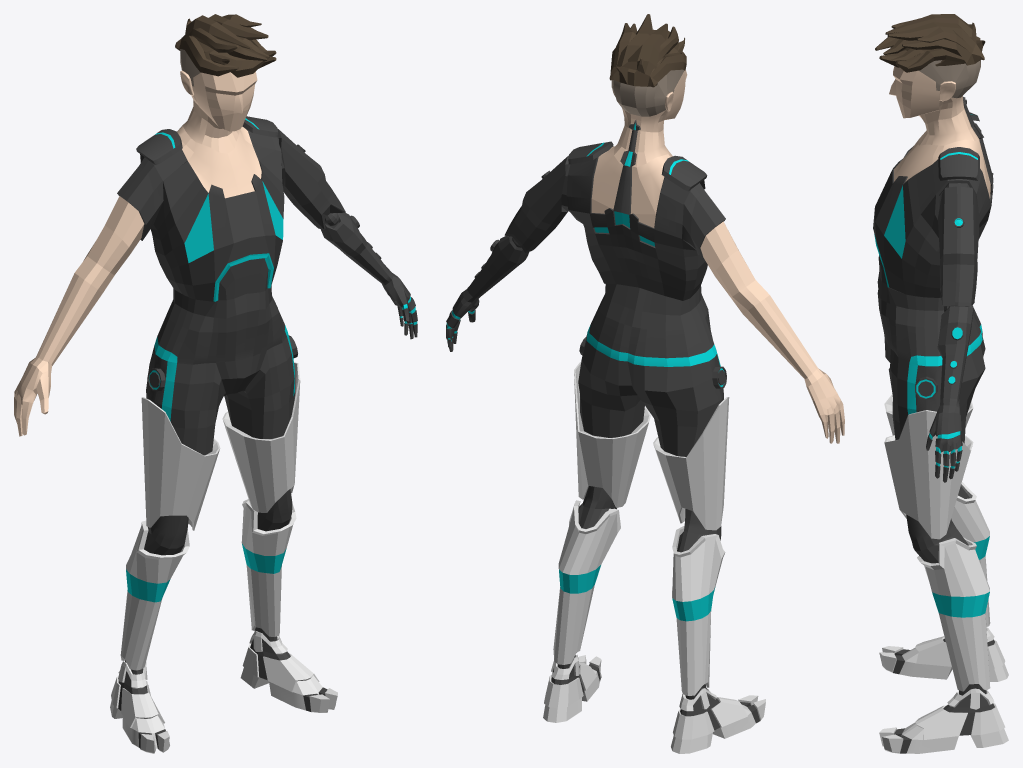
Rendered from SM_Poledancer.fbx.
3 views of the same model, side by side, from view 1: azimuth 30°, elevation 25°; view 2: azimuth 150°, elevation 25°; view 3: azimuth 270°, elevation 25° (orthographic). The views are drawn at different scales.
Parts seen in each view (by area): view 1: Character1; view 2: Character1; view 3: Character1.
Boxes of the visible parts, x1=… form: Character1: x1=14, y1=14, x2=417, y2=753; Character1: x1=446, y1=14, x2=844, y2=753; Character1: x1=873, y1=14, x2=1008, y2=753.
Bounding box in the file's own units: 143 × 237 × 42.38.
